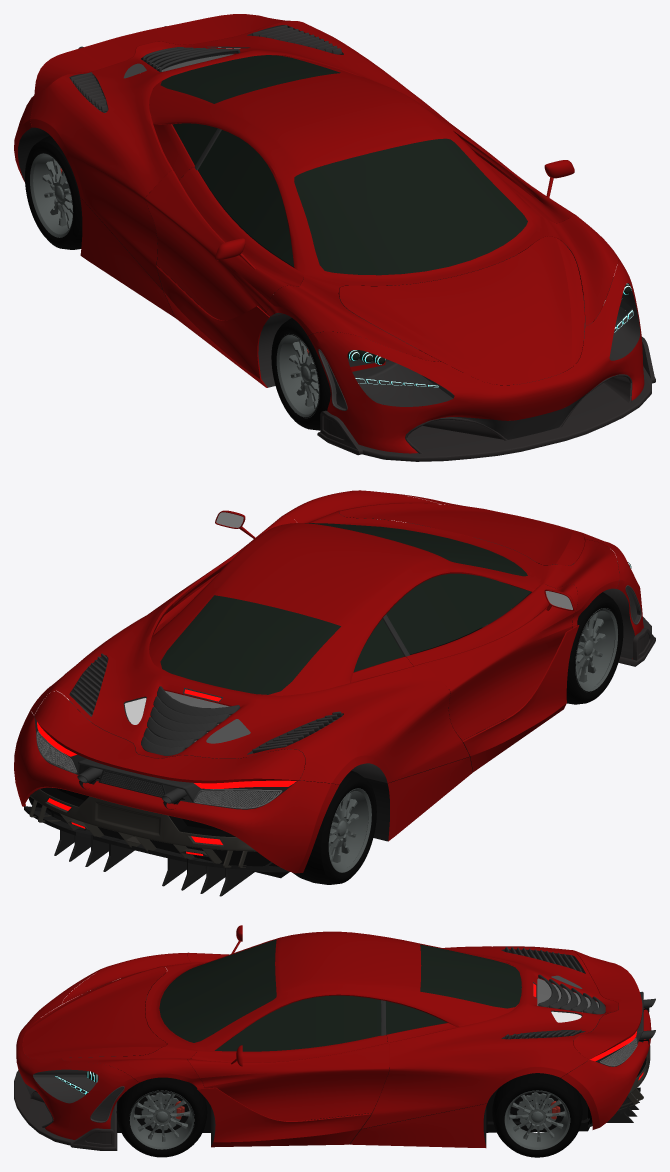
Rendered from maclaren_720_s.glb.
The picture shows the model from 3 angles, top to bottom: view 1: azimuth 30°, elevation 25°; view 2: azimuth 150°, elevation 25°; view 3: azimuth 270°, elevation 25°; orthographic projection. The views are drawn at different scales.
Visible parts, largest first — view 1: Plane.006, Plane.026, Plane.002, Plane.011, Plane.001, Plane.005, Cube, Plane.013, Plane.010, Plane.012, Torus.001, Torus (+7 smaller); view 2: Plane.006, Plane.011, Plane.005, Plane.009, Plane.012, Plane.013, Plane.019, Plane.001, Torus.001, Plane.020, Torus, Plane.010 (+13 smaller); view 3: Plane.006, Plane.011, Plane.005, Plane.001, Plane.026, Plane.002, Plane.013, Torus.001, Torus, Plane.010, Plane.003, Plane.012 (+10 smaller).
Boxes of the visible parts, x1,y1,x2,y2 form: Plane.006: (149,55,618,361); Plane.026: (294,138,527,275); Plane.002: (308,259,644,453); Plane.011: (30,21,448,290); Plane.001: (339,236,584,385); Plane.005: (145,111,575,320); Cube: (317,336,655,461); Plane.013: (198,130,293,266); Plane.010: (156,245,569,387); Plane.012: (34,14,299,95); Torus.001: (25,135,112,249); Torus: (271,250,583,430); Plane.006: (149,490,619,695); Plane.011: (30,602,469,784); Plane.005: (149,514,577,740); Plane.009: (14,710,339,873); Plane.012: (34,691,304,783); Plane.013: (386,573,530,654); Plane.019: (29,787,256,867); Plane.001: (339,503,584,565); Torus.001: (28,709,376,884); Plane.020: (24,806,289,896); Torus: (566,587,623,704); Plane.010: (443,608,579,772); Plane.006: (62,931,521,1088); Plane.011: (361,946,618,1128); Plane.005: (187,953,389,1121); Plane.001: (23,967,167,1058); Plane.026: (159,939,276,1042); Plane.002: (16,967,138,1139); Plane.013: (215,995,381,1051); Torus.001: (492,1073,582,1157); Torus: (116,984,207,1157); Plane.010: (197,1087,371,1147); Plane.003: (349,1035,486,1147); Plane.012: (573,950,642,1059).
Bounding box in the file's own units: 1.39 × 0.728 × 2.84.
